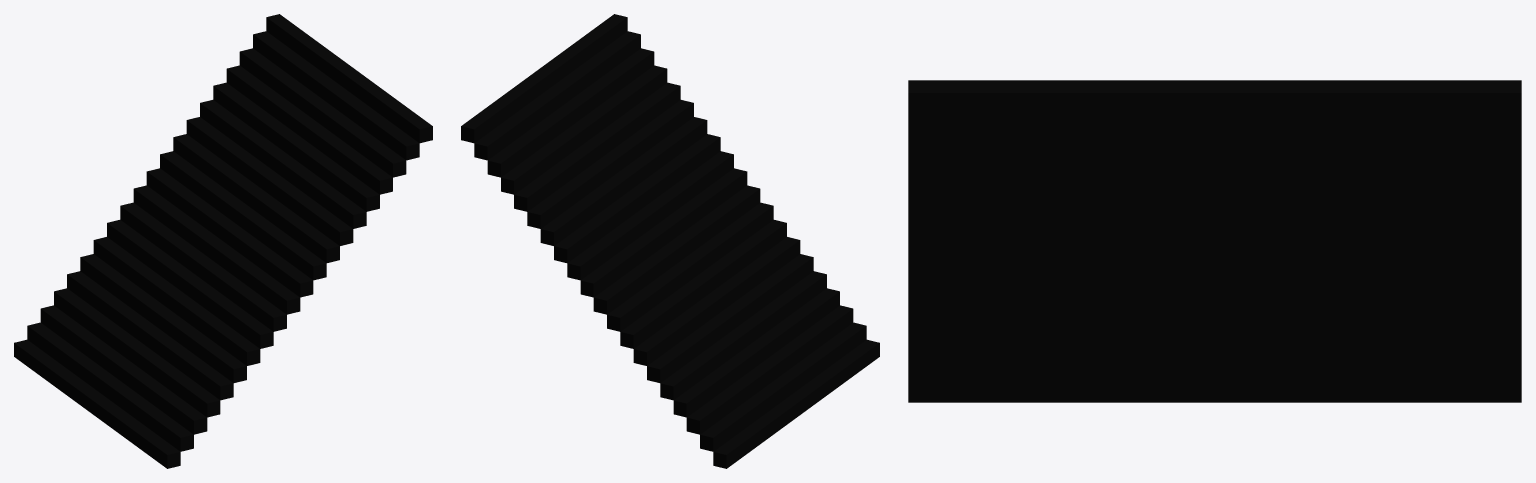
The model's file is Stupenki.fbx.
3 renders of one model, left to right at view 1: azimuth 30°, elevation 25°; view 2: azimuth 150°, elevation 25°; view 3: azimuth 270°, elevation 25°, orthographic. The views are drawn at different scales.
Visible parts, largest first — view 1: Cube; view 2: Cube; view 3: Cube.
Part boxes in pixels (box(x1,y1,x2,y2)): Cube: box(14, 14, 432, 468); Cube: box(461, 14, 879, 468); Cube: box(908, 80, 1521, 402).
Bounding box in the file's own units: 100 × 100 × 100.
